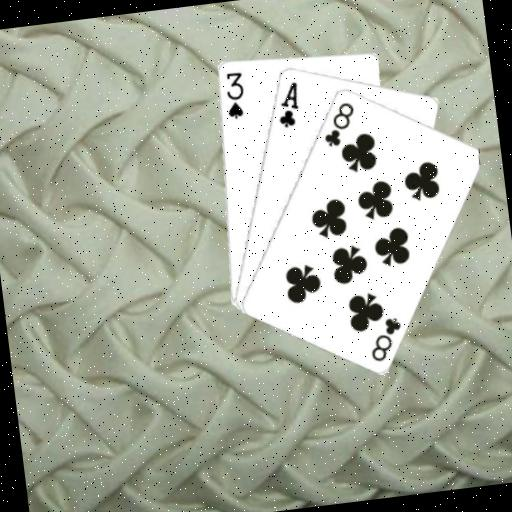3S: (220, 68, 249, 121)
8C: (363, 313, 407, 364), (317, 98, 360, 149)
AC: (271, 79, 304, 130)
